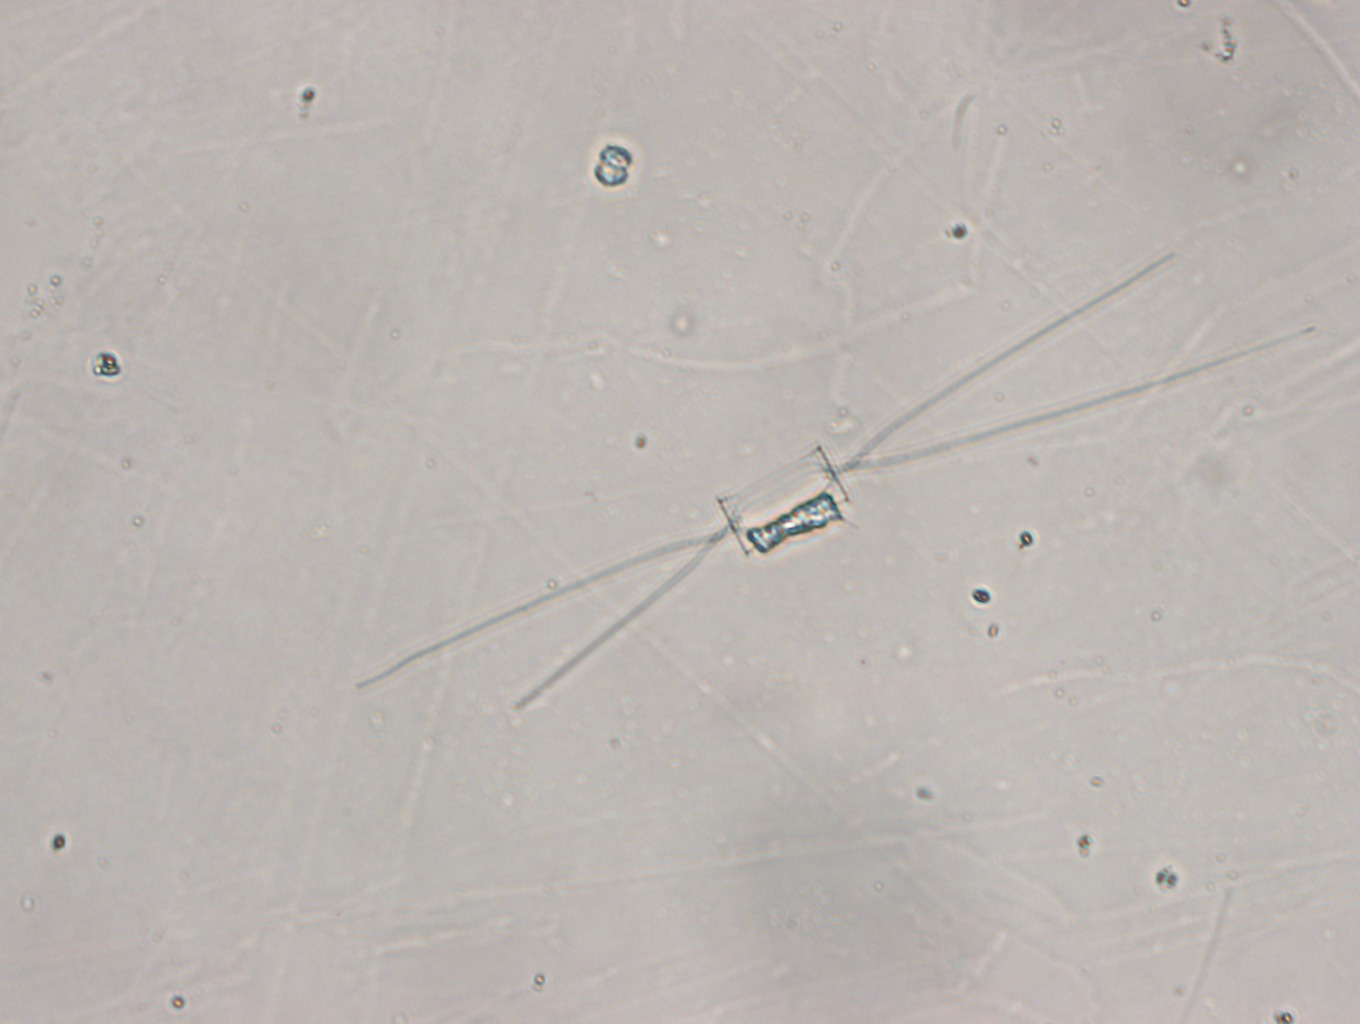chaetoceros: (354, 241, 1320, 713)
